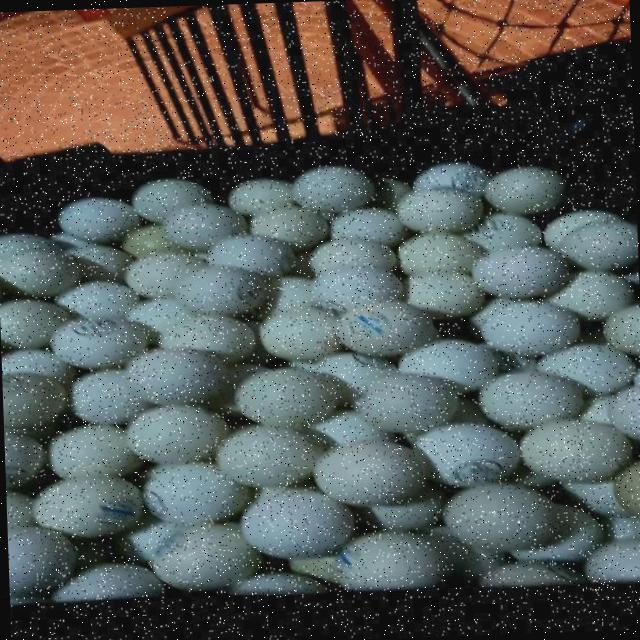ping-pong-ball: (304, 436, 438, 520), (234, 483, 366, 564), (132, 515, 268, 593), (438, 478, 569, 556), (23, 465, 144, 546), (514, 406, 636, 486), (414, 412, 532, 493), (318, 524, 456, 592), (222, 360, 352, 432), (205, 420, 334, 490), (341, 363, 467, 433), (122, 337, 235, 412), (474, 364, 594, 434), (330, 293, 444, 363), (470, 293, 587, 361), (136, 457, 256, 522), (252, 299, 369, 365), (113, 398, 224, 466), (464, 237, 570, 306), (40, 312, 154, 374), (164, 258, 276, 320), (301, 258, 408, 320), (478, 157, 582, 219), (49, 188, 152, 248), (299, 228, 402, 284), (284, 158, 382, 216), (0, 241, 89, 302), (550, 218, 638, 279), (394, 179, 484, 238), (202, 229, 300, 281), (156, 200, 252, 253), (1, 364, 76, 429)
